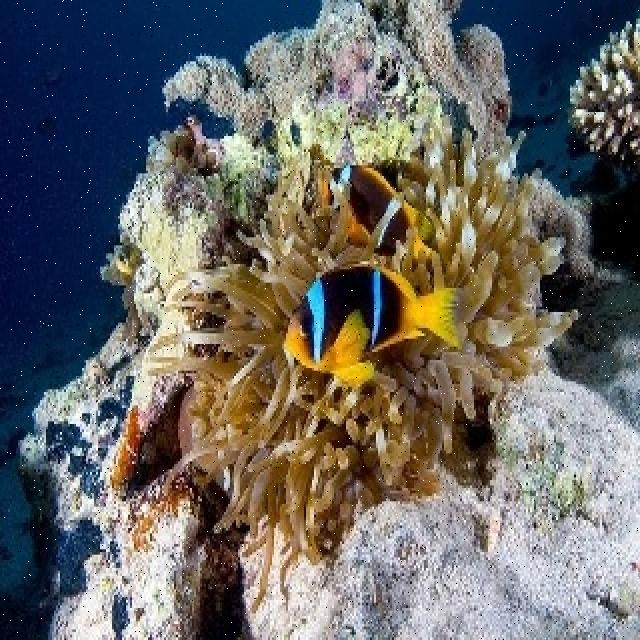fish: (284, 259, 465, 386), (331, 164, 440, 261)
reefs: (149, 112, 581, 616), (568, 16, 638, 157)
